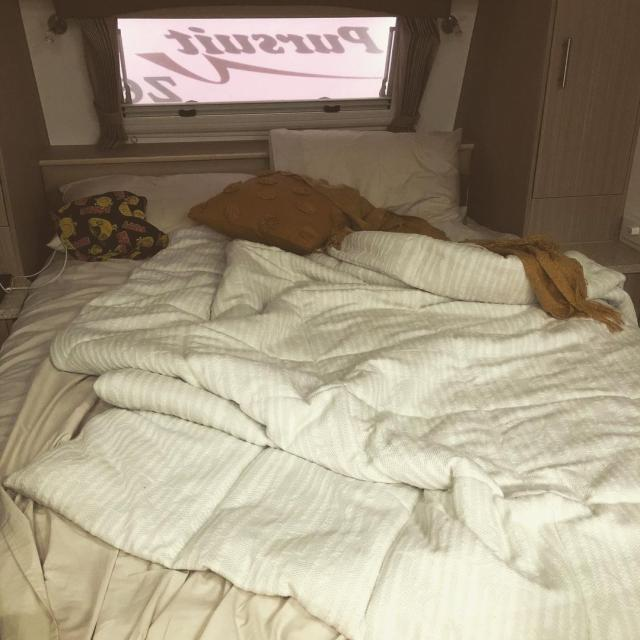bed: (45, 142, 569, 640)
